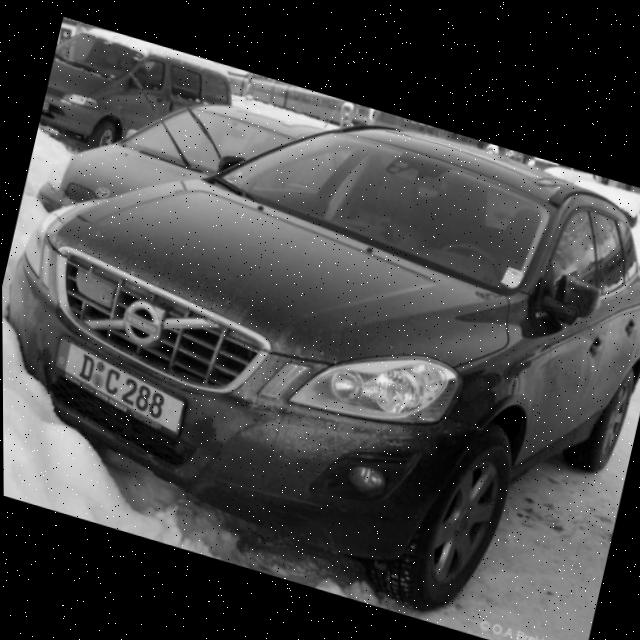license-plates: (56, 339, 183, 433)
